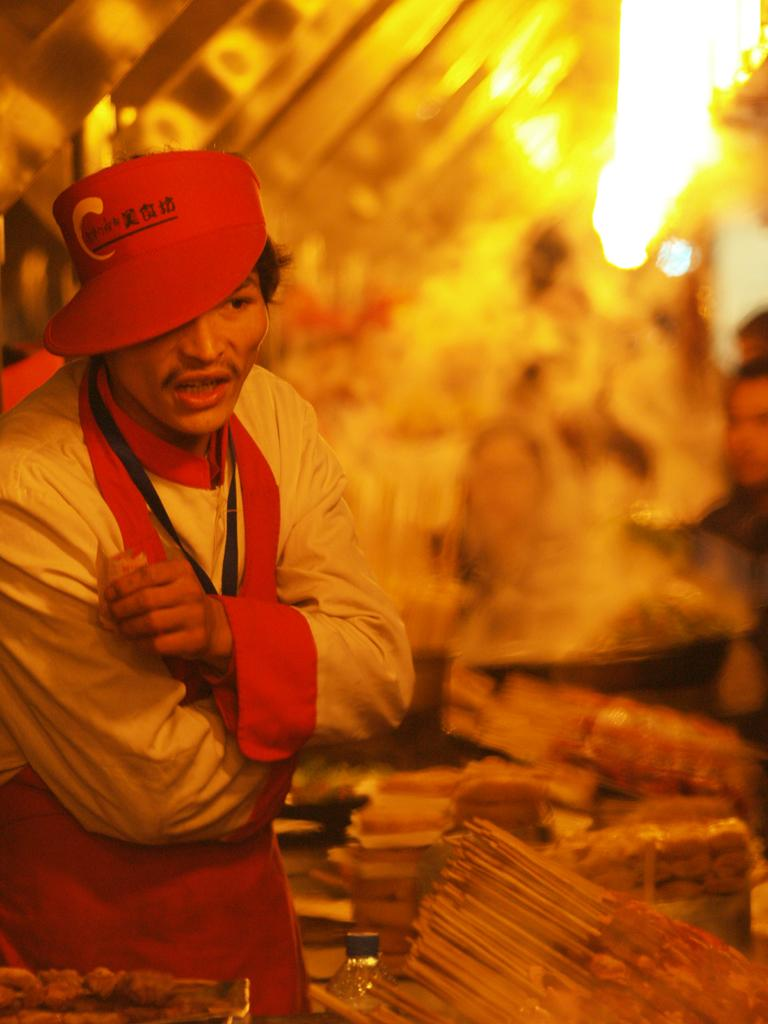Hat: (40, 153, 270, 354)
